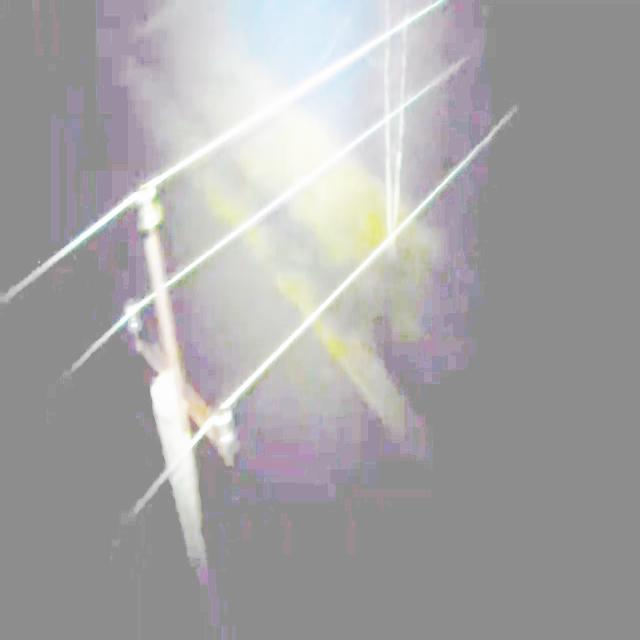poles: (126, 185, 232, 569)
wires: (230, 116, 510, 402), (165, 84, 432, 288), (146, 19, 412, 187), (296, 0, 442, 91), (26, 192, 146, 278), (130, 415, 222, 517), (26, 198, 132, 280), (76, 292, 155, 365)
